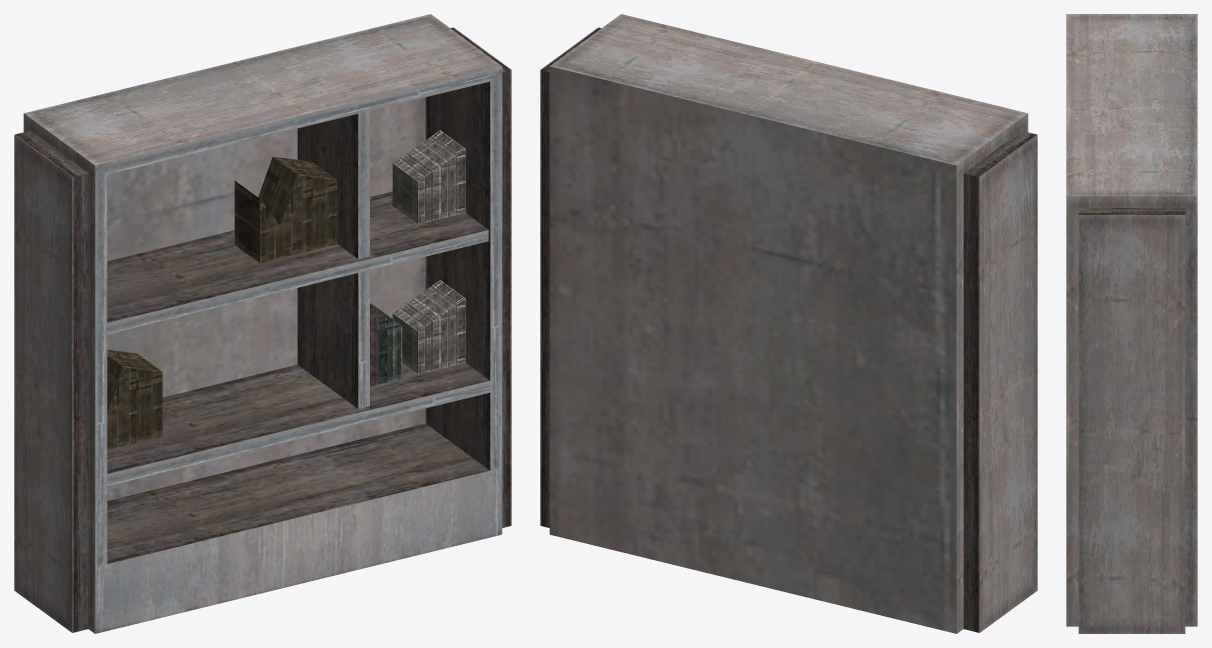
Rendered from frn_all_chep_bookcase_s01_l1.fbx.
The picture shows the model from 3 angles, left to right: view 1: azimuth 30°, elevation 25°; view 2: azimuth 150°, elevation 25°; view 3: azimuth 270°, elevation 25°; orthographic projection. The views are drawn at different scales.
Parts seen in each view (by area): view 1: mesh_node; view 2: mesh_node; view 3: mesh_node.
Part boxes in pixels (left/top/right/bottom): mesh_node: left=14, top=14, right=511, bottom=633; mesh_node: left=540, top=14, right=1037, bottom=633; mesh_node: left=1066, top=14, right=1197, bottom=633.
Size of the model in its own units: 1.77 by 1.8 by 0.4979.
Materials: 2 (2 with a texture image).
